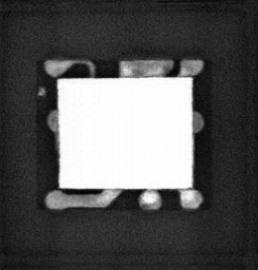DIE_INK: (36, 84, 46, 96)
